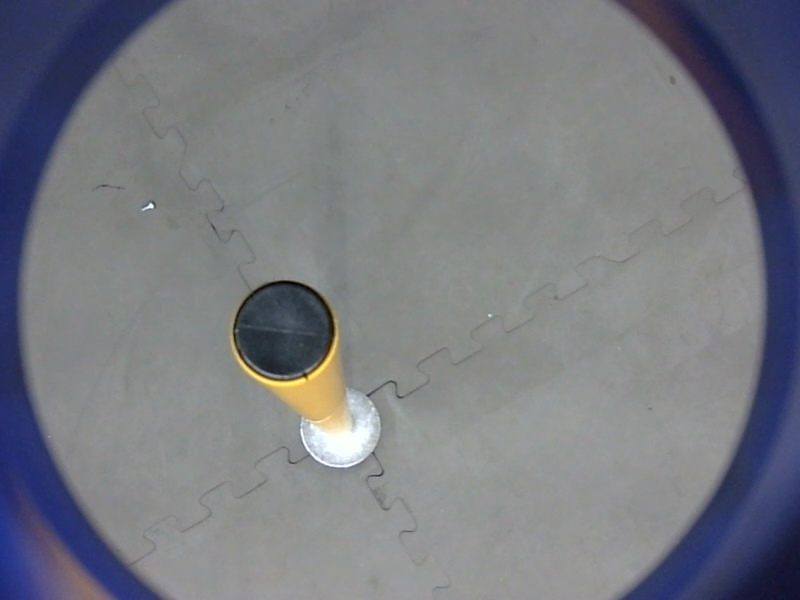tip: (222, 270, 347, 393)
